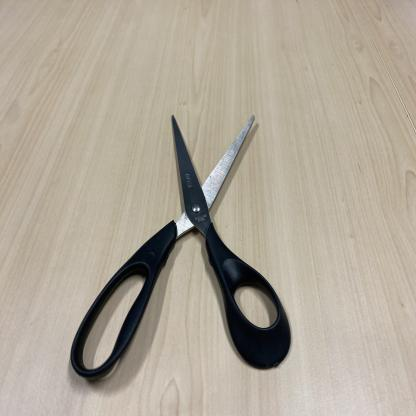scissors: (70, 114, 292, 385)
